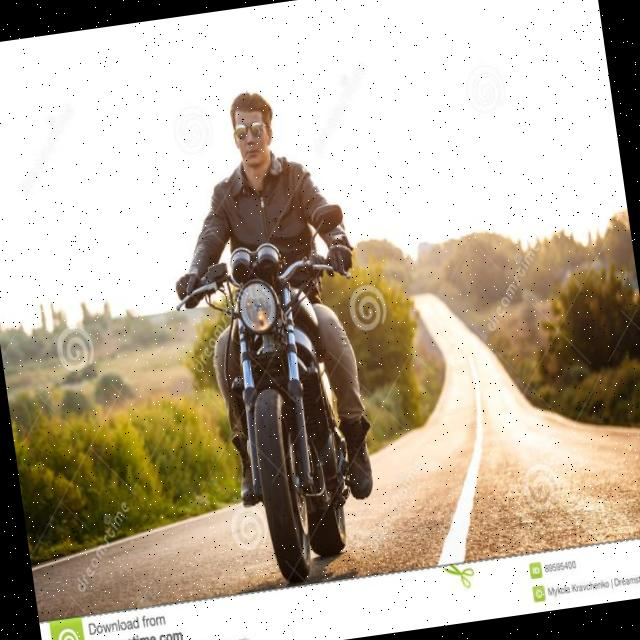No helmet: (202, 82, 306, 192)
